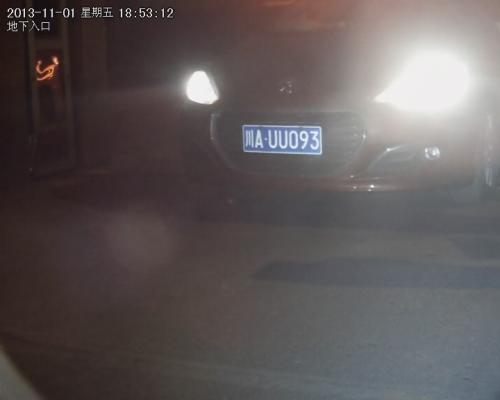Carplate: (237, 122, 325, 160)
